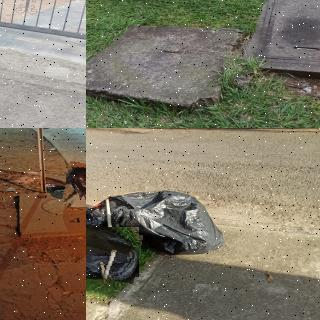Garbage: (101, 191, 230, 256), (86, 224, 141, 280), (64, 163, 86, 208), (86, 202, 103, 258)
